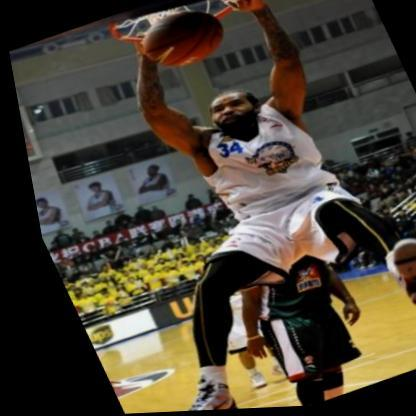basketball: (127, 2, 238, 81)
